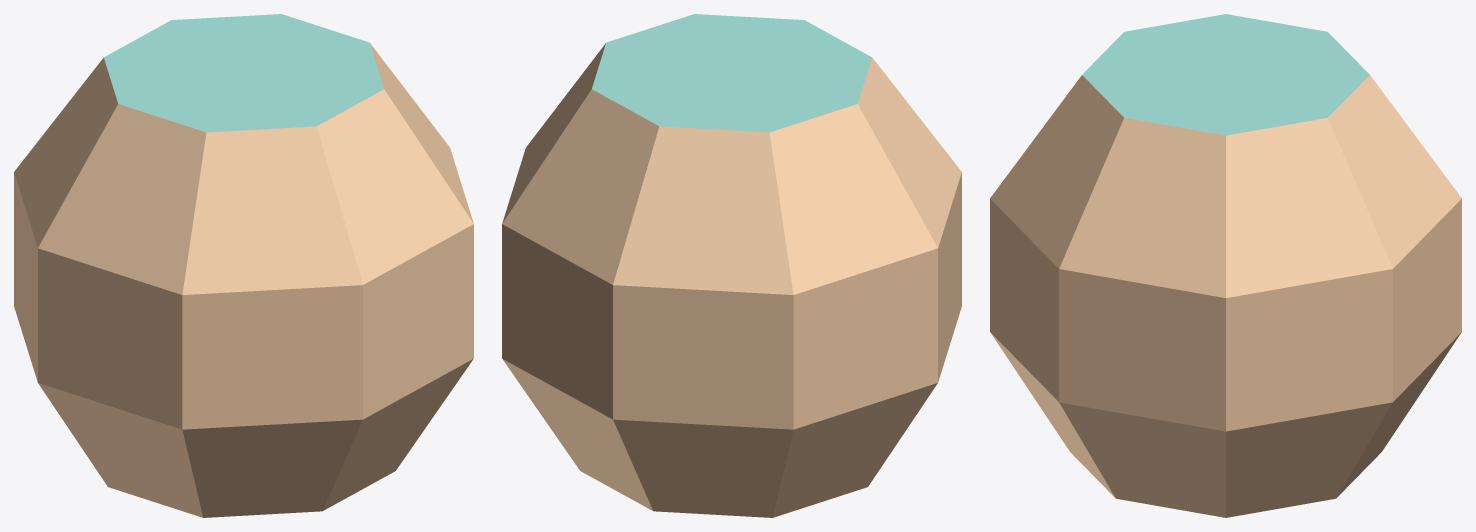
The model's file is rock_small8.glb.
3 views of the same model, side by side, from view 1: azimuth 30°, elevation 25°; view 2: azimuth 150°, elevation 25°; view 3: azimuth 270°, elevation 25° (orthographic).
Visible parts, largest first — view 1: rock_small8; view 2: rock_small8; view 3: rock_small8.
Boxes of the visible parts, left/top/right/bottom form: rock_small8: left=14, top=14, right=473, bottom=517; rock_small8: left=502, top=14, right=961, bottom=517; rock_small8: left=990, top=14, right=1461, bottom=517.
Bounding box in the file's own units: 0.4618 × 0.4074 × 0.4618.
